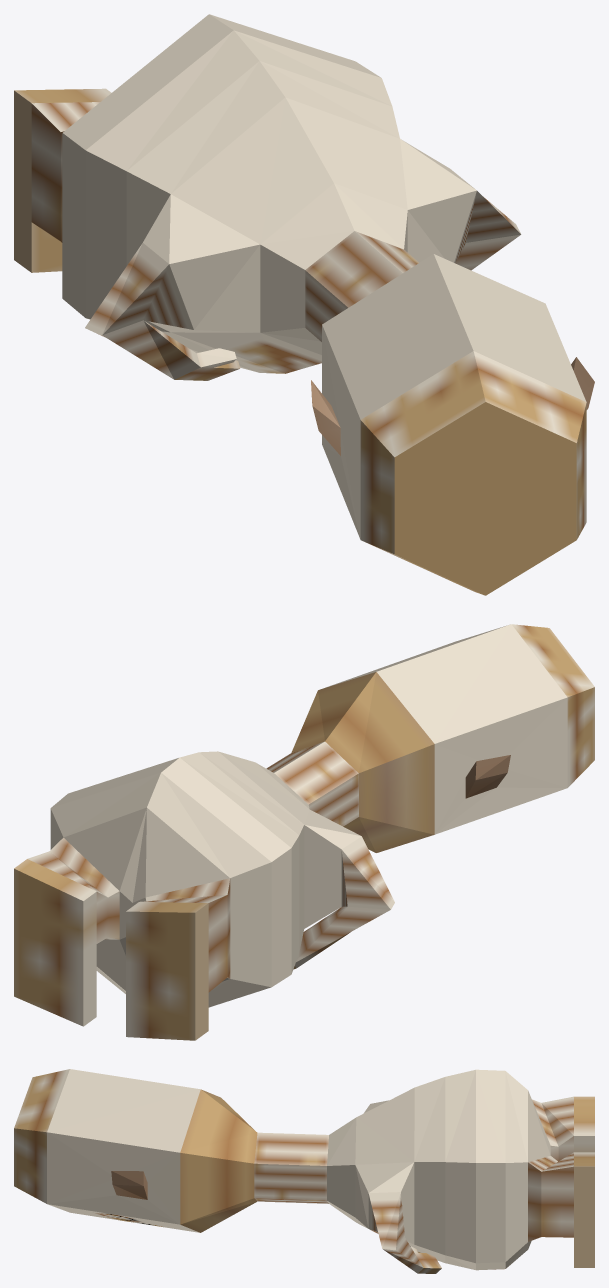
File: ancientIdol_idle.obj
The picture shows the model from 3 angles, top to bottom: view 1: azimuth 30°, elevation 25°; view 2: azimuth 150°, elevation 25°; view 3: azimuth 270°, elevation 25°; orthographic projection. The views are drawn at different scales.
Visible parts, largest first — view 1: Cylinder; view 2: Cylinder; view 3: Cylinder.
Boxes of the visible parts, x1=… form: Cylinder: x1=14, y1=14, x2=594, y2=595; Cylinder: x1=14, y1=624, x2=594, y2=1040; Cylinder: x1=14, y1=1069, x2=594, y2=1273.
Size of the model in its own units: 8.85 by 6.6 by 17.34.
Materials: 1 (1 with a texture image).
